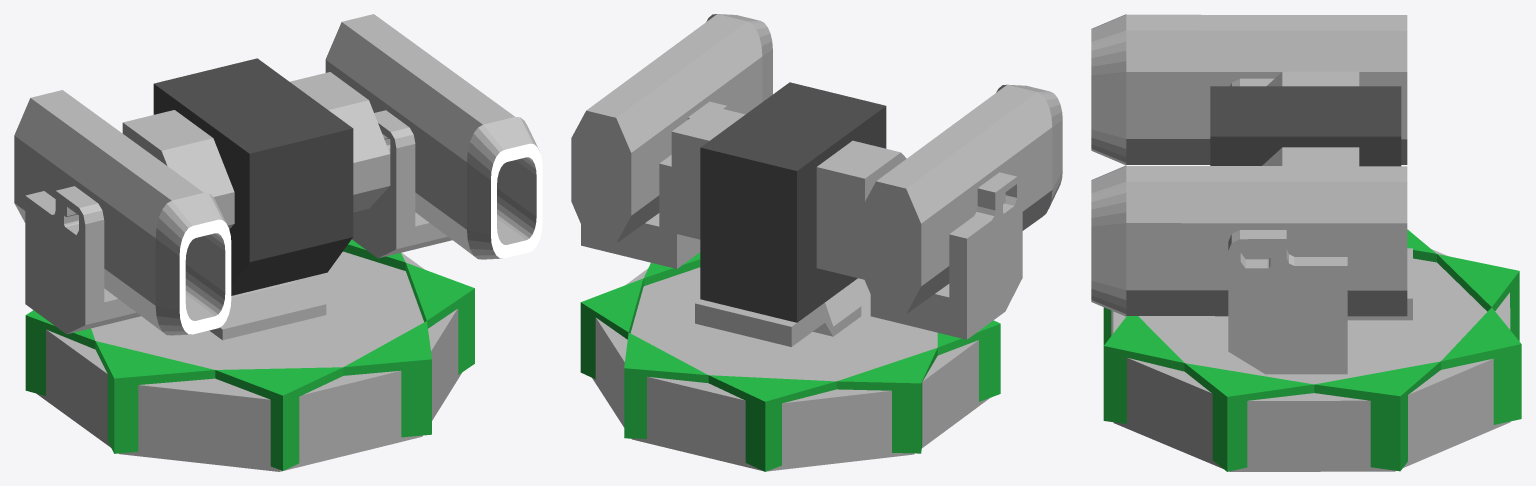
File: MechaGun.fbx
3 renders of one model, left to right at view 1: azimuth 30°, elevation 25°; view 2: azimuth 150°, elevation 25°; view 3: azimuth 270°, elevation 25°, orthographic. The views are drawn at different scales.
Visible parts, largest first — view 1: MainBody; view 2: MainBody; view 3: MainBody.
Part boxes in pixels (x1=…): MainBody: x1=14, y1=14, x2=542, y2=471; MainBody: x1=571, y1=14, x2=1062, y2=471; MainBody: x1=1091, y1=14, x2=1521, y2=471.
Bounding box in the file's own units: 7.99 × 5.36 × 7.21.
